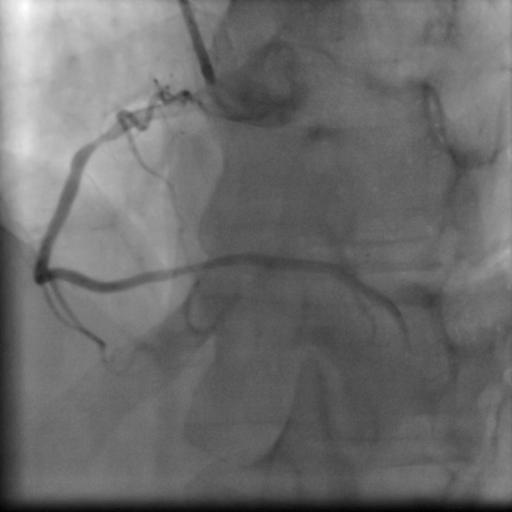Stenosis: (82, 124, 115, 149)
